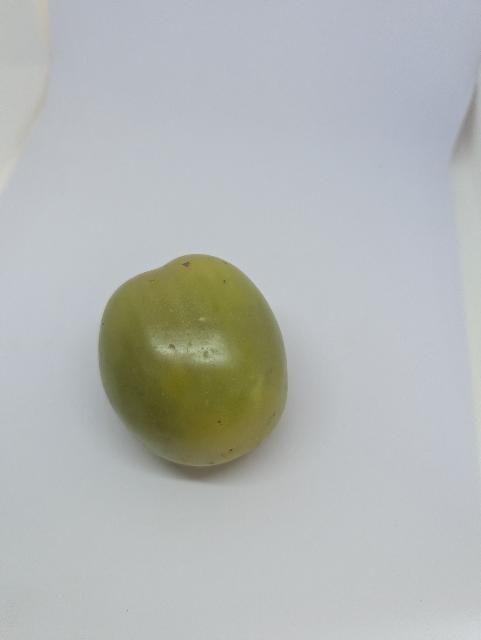green: (89, 239, 311, 482)
